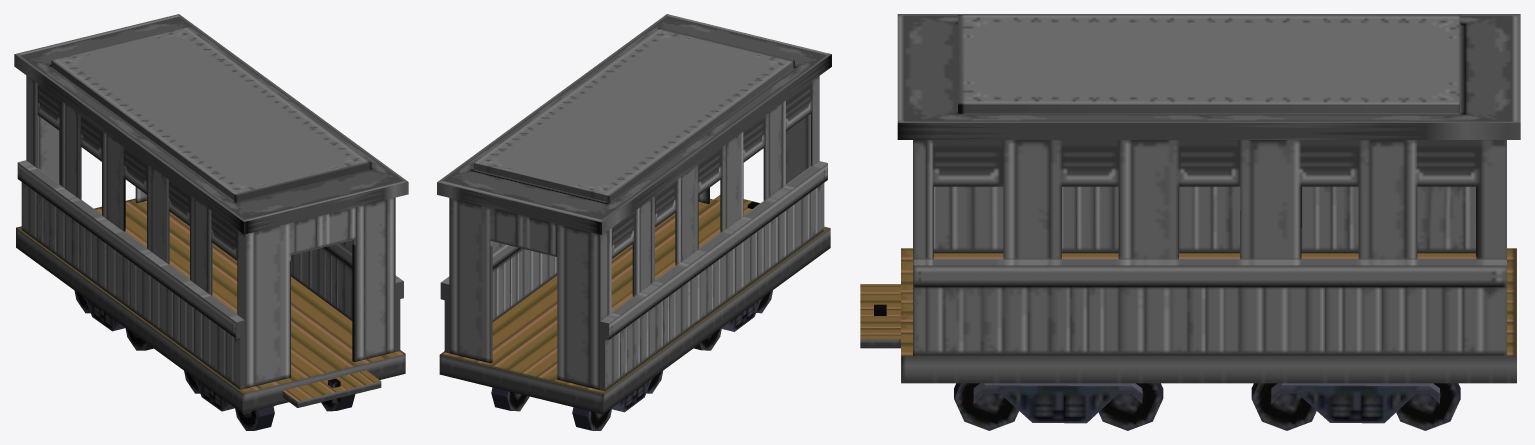
File: GenericWagon.fbx
The picture shows the model from 3 angles, left to right: view 1: azimuth 30°, elevation 25°; view 2: azimuth 150°, elevation 25°; view 3: azimuth 270°, elevation 25°; orthographic projection. The views are drawn at different scales.
Visible parts, largest first — view 1: Body, Ceiling, Base; view 2: Body, Ceiling, Base; view 3: Body, Ceiling, Base.
Boxes of the visible parts, left/top/right/bottom form: Body: left=17, top=75, right=403, bottom=389; Ceiling: left=14, top=14, right=408, bottom=234; Base: left=16, top=198, right=405, bottom=430; Body: left=440, top=76, right=827, bottom=391; Ceiling: left=437, top=14, right=831, bottom=234; Base: left=439, top=195, right=830, bottom=430; Body: left=913, top=140, right=1506, bottom=355; Ceiling: left=897, top=14, right=1520, bottom=139; Base: left=860, top=248, right=1516, bottom=430.
Size of the model in its own units: 380 by 539 by 954.
